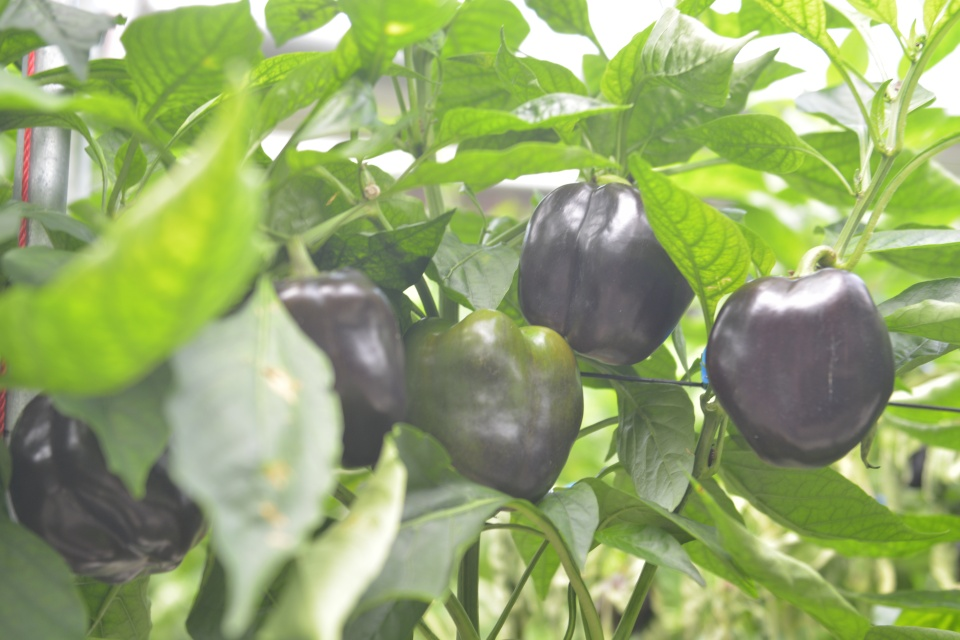fruit: (5, 388, 214, 587), (703, 266, 899, 472), (222, 264, 408, 471), (400, 307, 587, 506), (516, 180, 696, 368)
